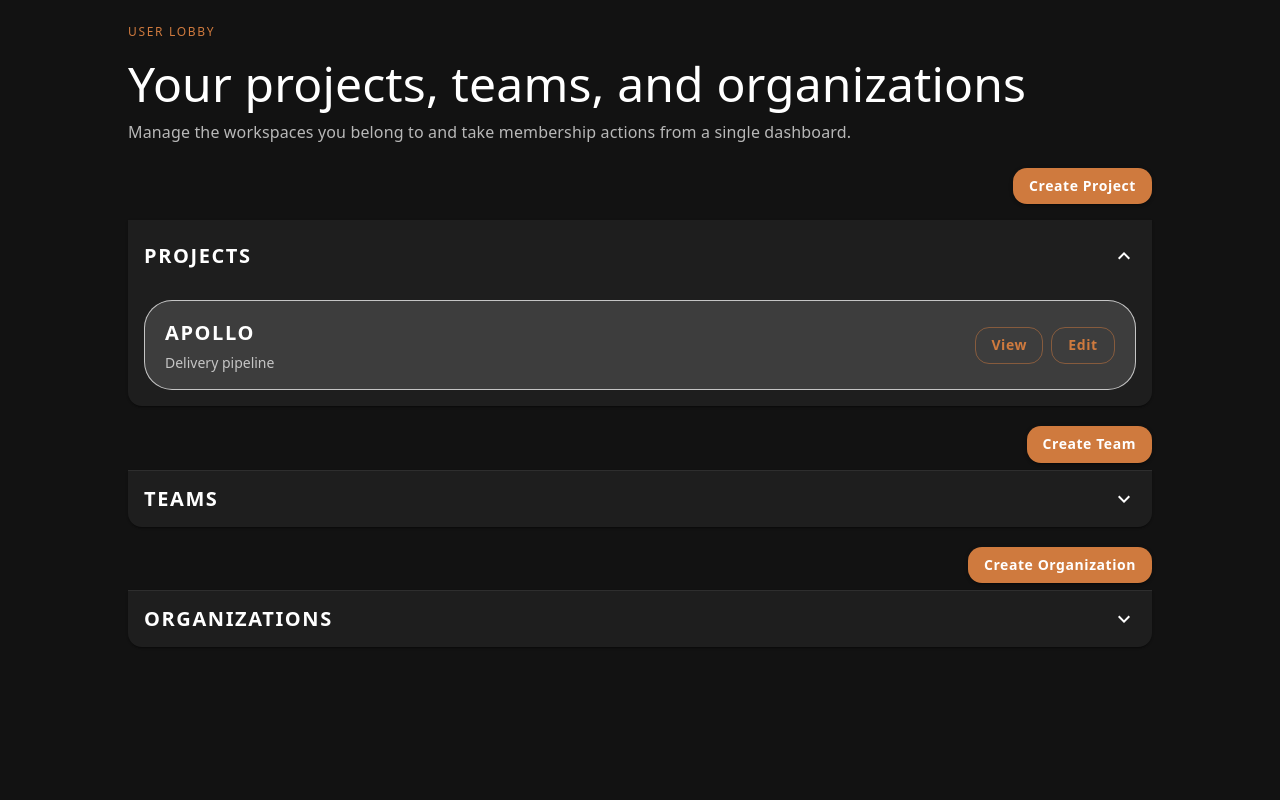
UserLobbyPage › opens a project summary modal from the view button
The image size is (1280, 800).
What coordinates should you click on to do the following:
click the button "View"
I would click on:
 (1009, 345)
Its box is [975,327,1043,364].
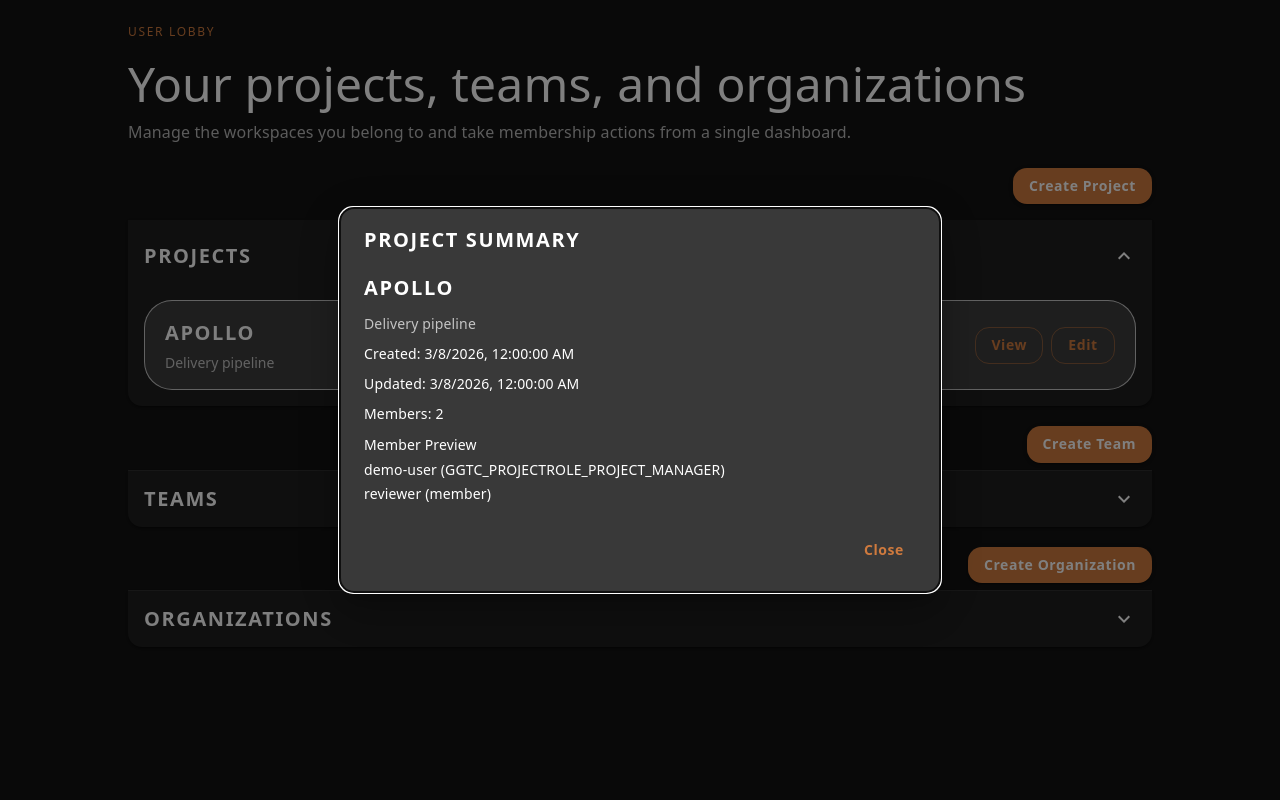
Check: the heading "Project Summary" is shown, box [364,226,580,253]
Check: the text "Members: 2" is shown, box [364,404,444,423]
Check: the text "demo-user (GGTC_PROJECTROLE_PROJECT_MANAGER)" is shown, box [364,460,725,479]
